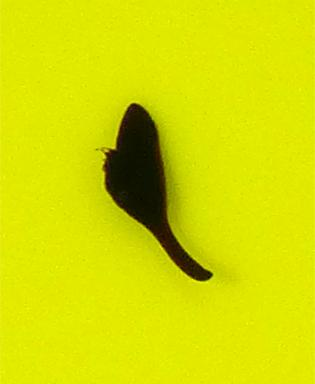Hemiptera: (100, 100, 215, 284)
